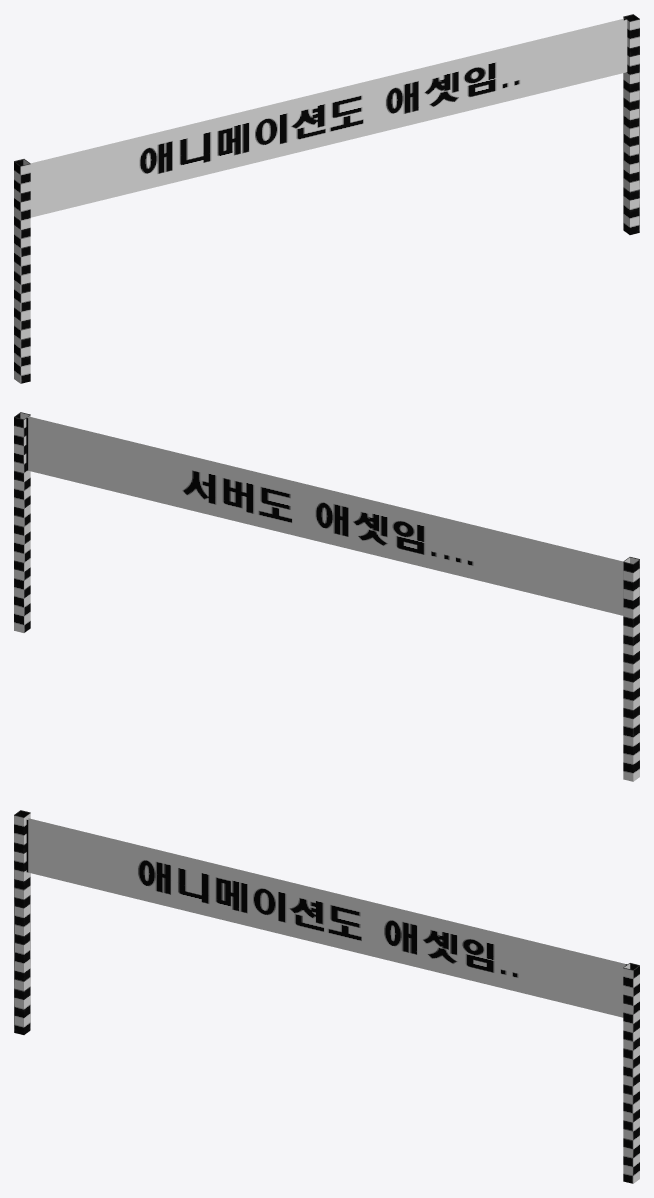
The model's file is gate.FBX.
3 renders of one model, top to bottom at view 1: azimuth 30°, elevation 25°; view 2: azimuth 150°, elevation 25°; view 3: azimuth 330°, elevation 25°, orthographic.
Parts seen in each view (by area): view 1: gate001; view 2: gate001; view 3: gate001.
Part boxes in pixels (x1,y1,x2,y2): gate001: (14,14,639,383); gate001: (14,412,639,781); gate001: (14,810,639,1183).
Bounding box in the file's own units: 2076 × 698 × 38.6.
